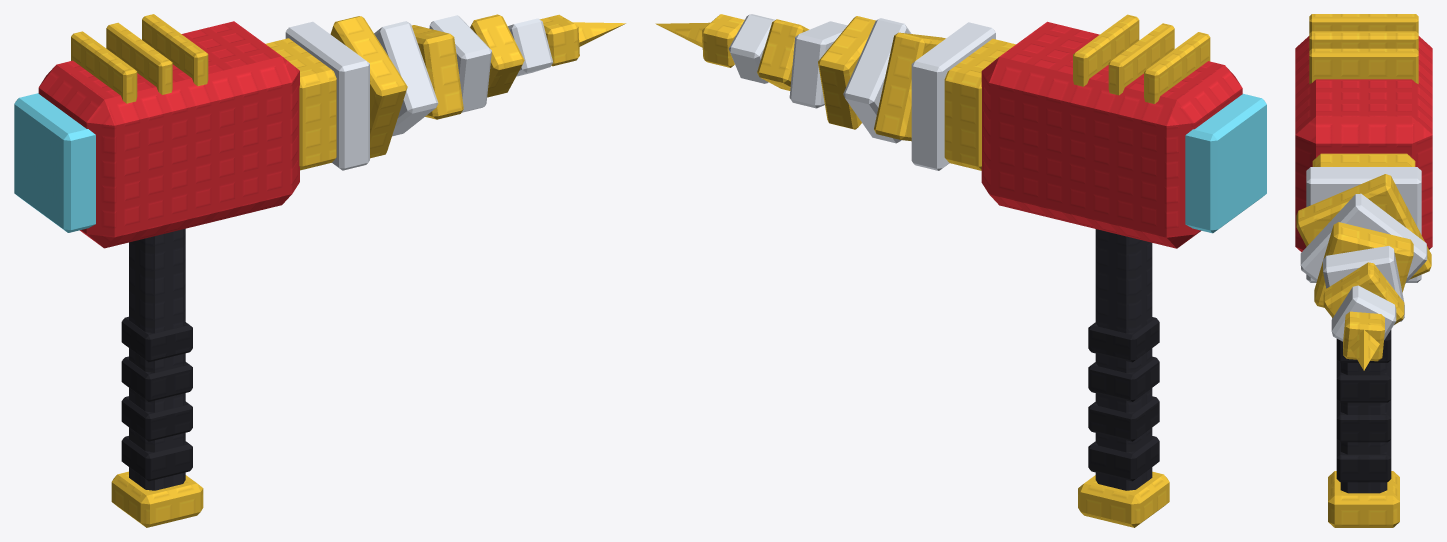
File: outil_24_foreuse_turbo.glb
3 renders of one model, left to right at view 1: azimuth 30°, elevation 25°; view 2: azimuth 150°, elevation 25°; view 3: azimuth 270°, elevation 25°, orthographic.
Parts seen in each view (by area): view 1: outil_24_foreuse_turbo; view 2: outil_24_foreuse_turbo; view 3: outil_24_foreuse_turbo.
Part boxes in pixels (x1,y1,x2,y2): outil_24_foreuse_turbo: [14, 14, 625, 527]; outil_24_foreuse_turbo: [655, 14, 1266, 527]; outil_24_foreuse_turbo: [1295, 14, 1432, 527].
Size of the model in its own units: 4.96 by 3.81 by 1.
1 material, 1 textured.
